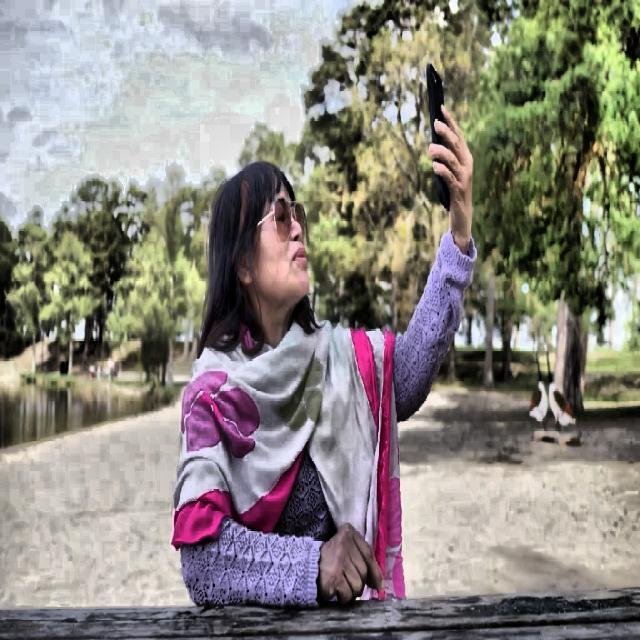Phone: (426, 66, 451, 212)
